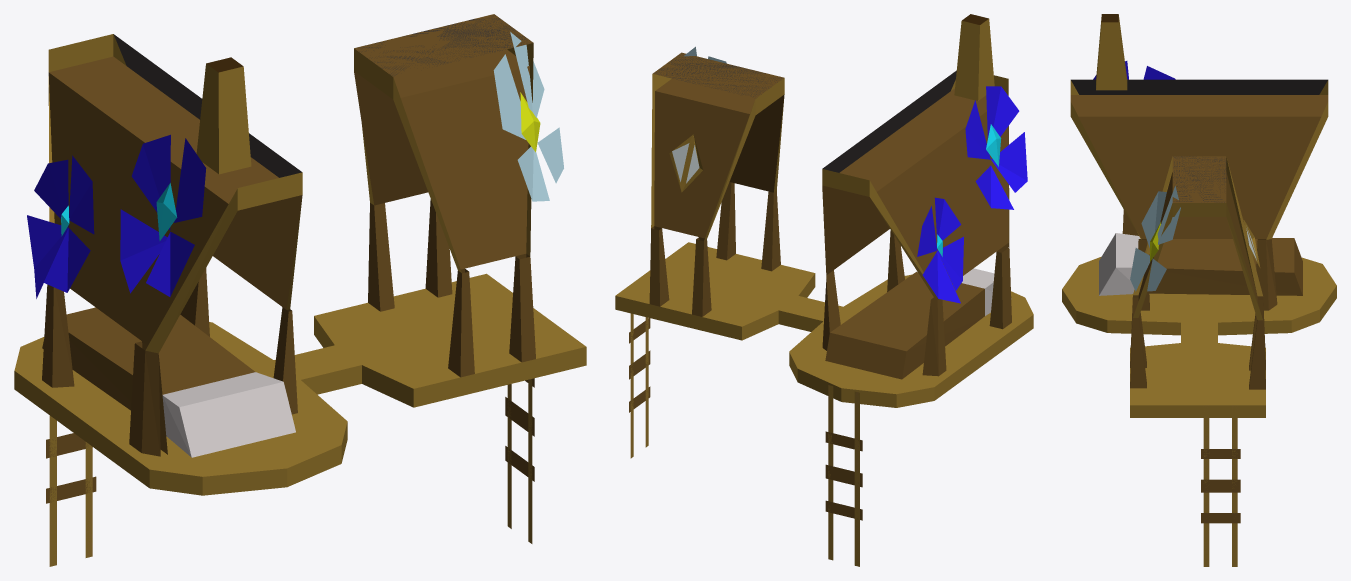
Rendered from obj_fairy_house_2_0.obj.
3 views of the same model, side by side, from view 1: azimuth 30°, elevation 25°; view 2: azimuth 150°, elevation 25°; view 3: azimuth 270°, elevation 25° (orthographic). The views are drawn at different scales.
Bounding box in the file's own units: 1 × 1.29 × 0.7578.
